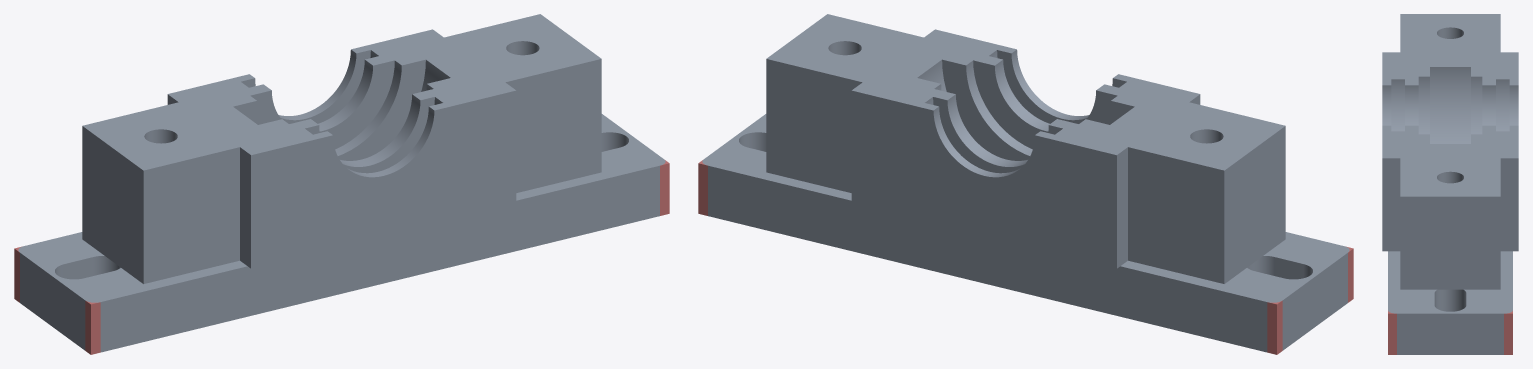
The model's file is step_06.glb.
3 renders of one model, left to right at view 1: azimuth 30°, elevation 25°; view 2: azimuth 150°, elevation 25°; view 3: azimuth 270°, elevation 25°, orthographic. The views are drawn at different scales.
Visible parts, largest first — view 1: part__housing base, removed__housing base; view 2: part__housing base, removed__housing base; view 3: part__housing base, removed__housing base.
Boxes of the visible parts, bbox=[...] form: part__housing base: bbox=[18, 14, 665, 352]; removed__housing base: bbox=[14, 160, 669, 354]; part__housing base: bbox=[702, 14, 1349, 352]; removed__housing base: bbox=[698, 160, 1353, 354]; part__housing base: bbox=[1382, 14, 1518, 354]; removed__housing base: bbox=[1388, 311, 1512, 354].
Size of the model in its own units: 240 by 65 by 60.
